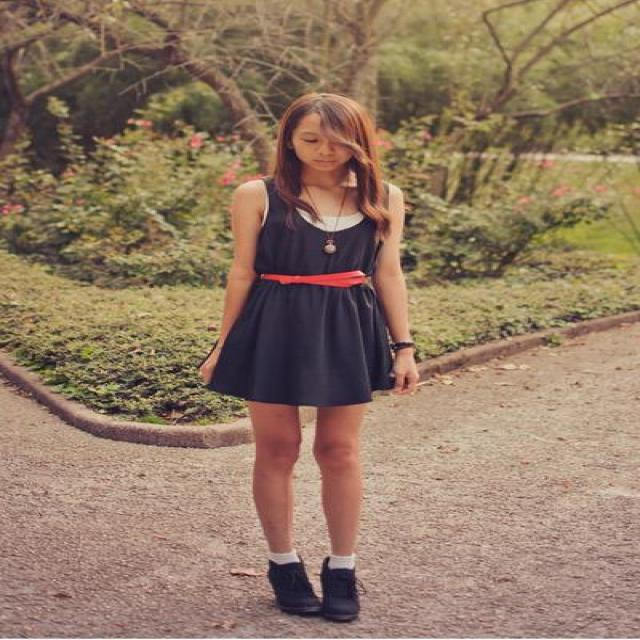dress: (211, 202, 419, 410)
shoe: (267, 557, 363, 623)
